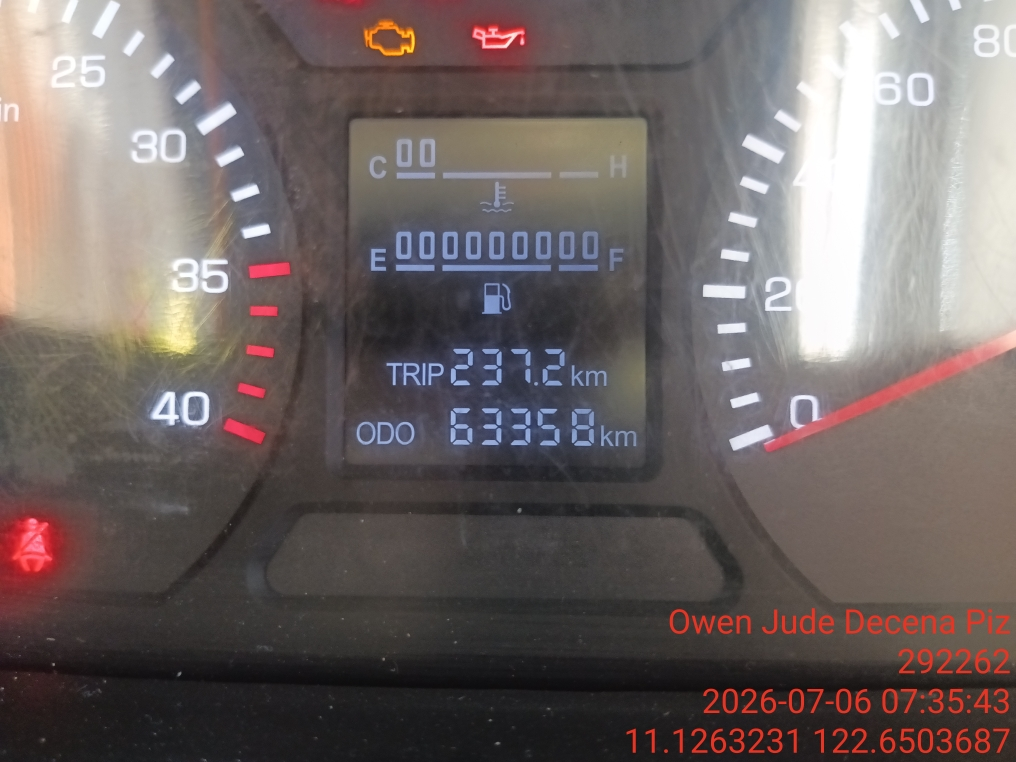grid_pose: (279, 105, 597, 270)
